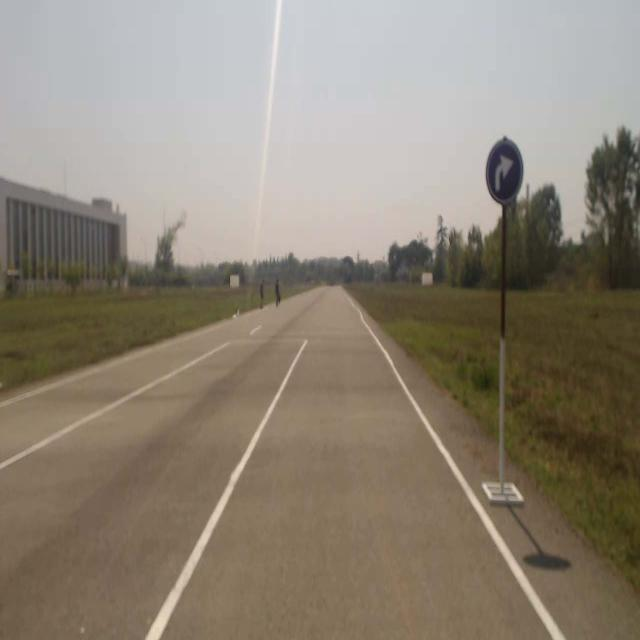sag: (486, 140, 522, 201)
